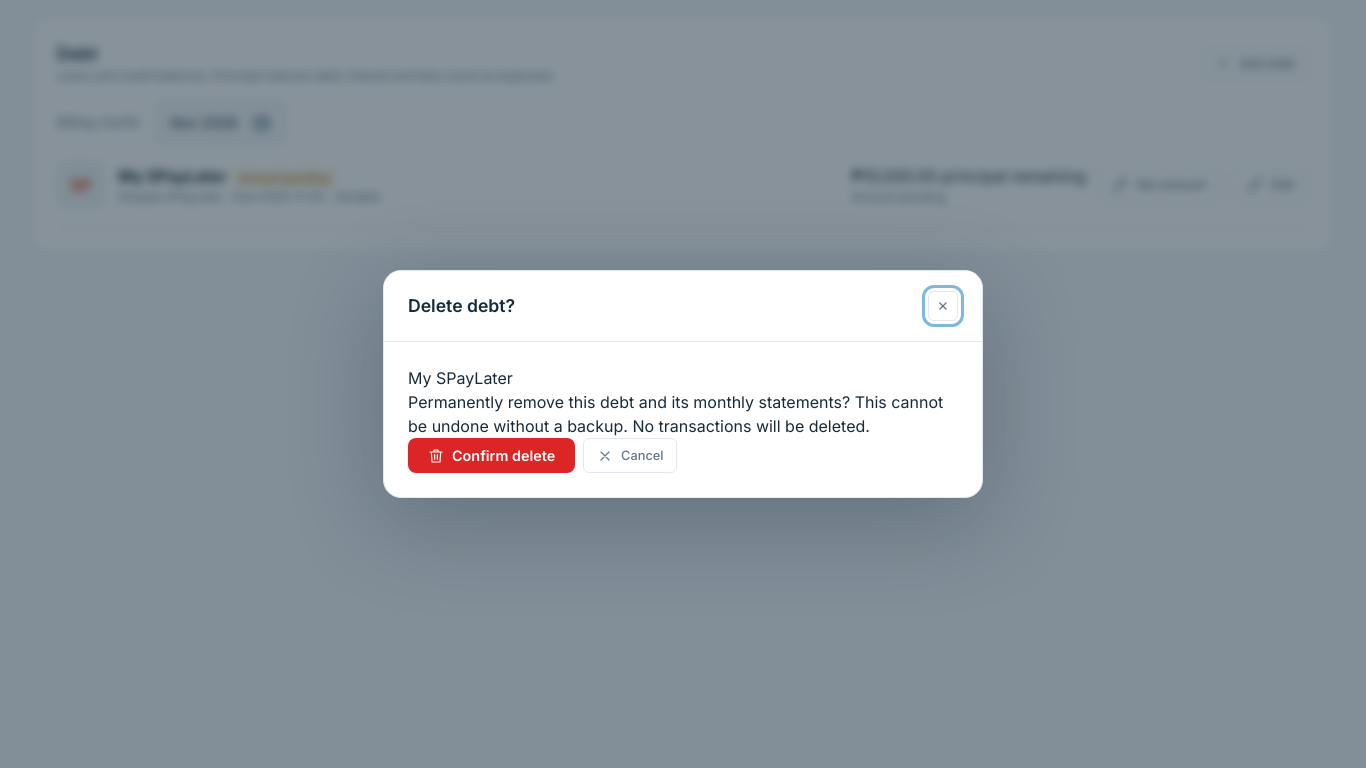
it: rechecks linked repayments at deletion time
Earlier steps of the test are not shown.
What coordinates should you click on to do the following:
click the button "Confirm delete"
I would click on:
 (492, 456)
Its box is [408, 438, 575, 473].
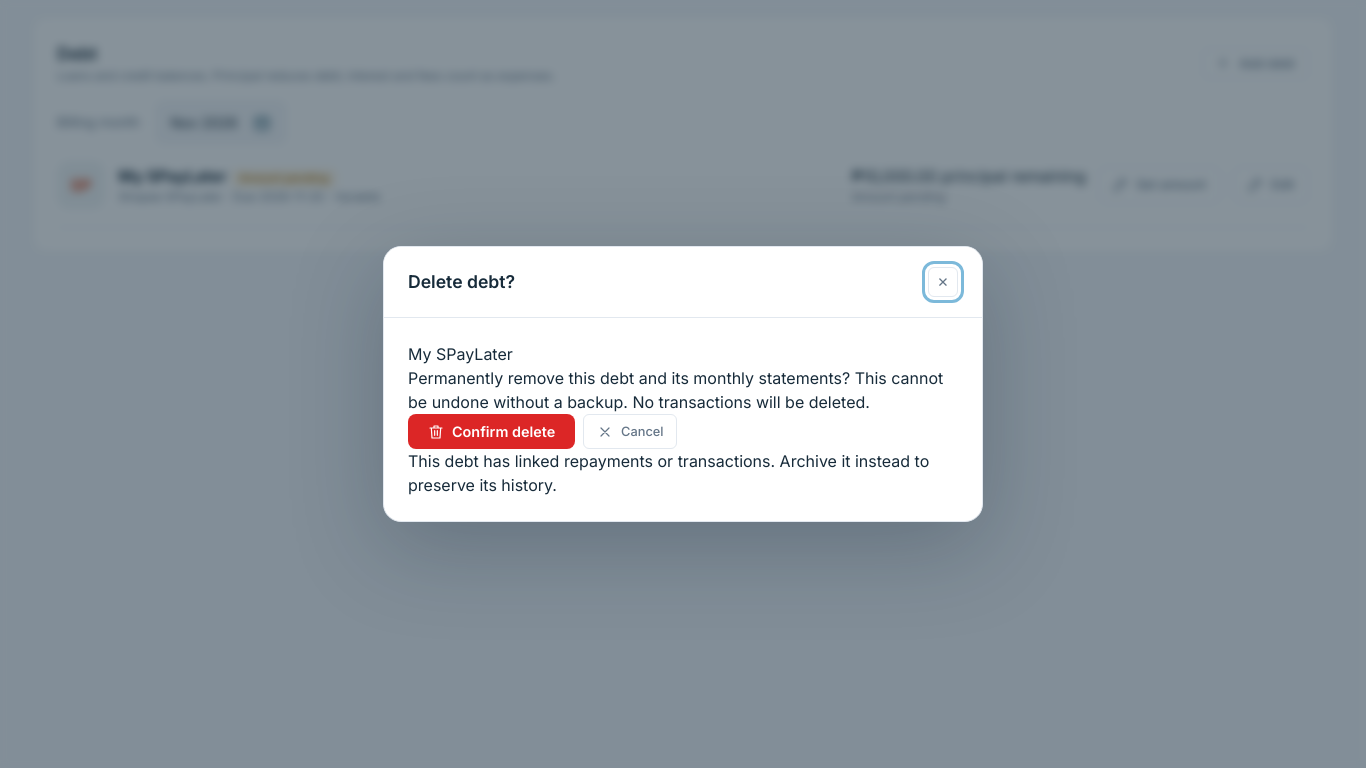
Result: the message shows "Archive it instead" at [408, 451, 929, 495]
